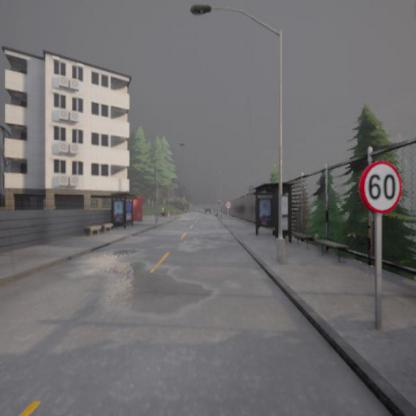traffic_sign_60: (360, 160, 402, 215)
